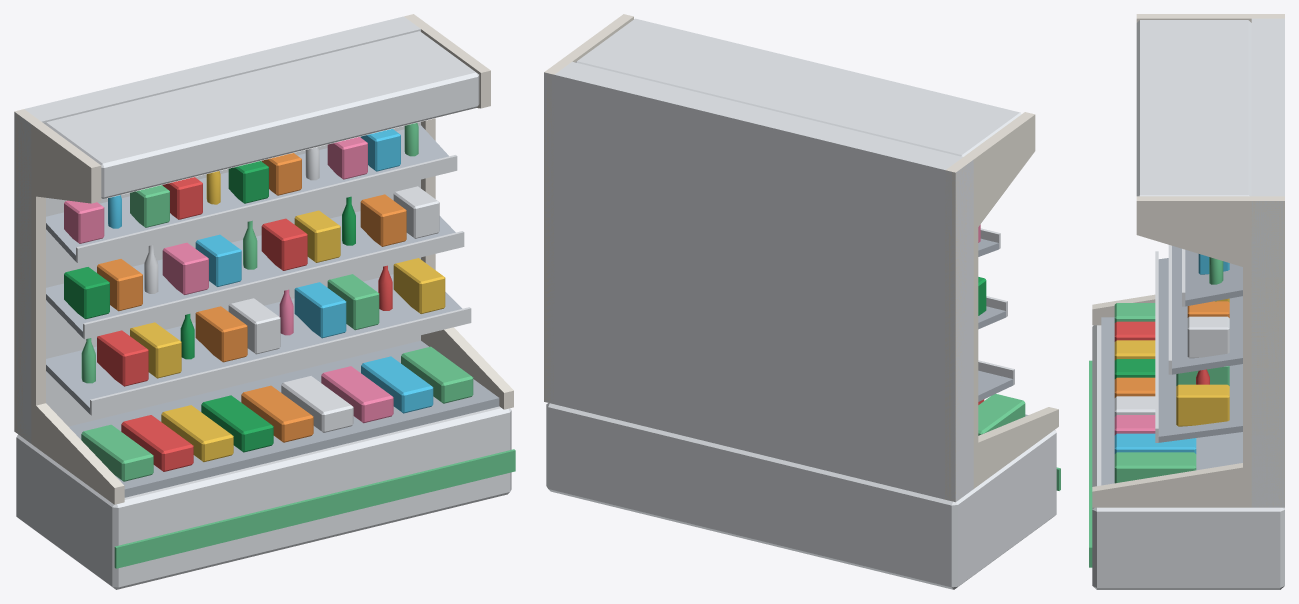
Rendered from fresh_fridge.glb.
The picture shows the model from 3 angles, left to right: view 1: azimuth 30°, elevation 25°; view 2: azimuth 150°, elevation 25°; view 3: azimuth 270°, elevation 25°; orthographic projection. The views are drawn at different scales.
Parts seen in each view (by area): view 1: fresh_fridge; view 2: fresh_fridge; view 3: fresh_fridge.
Part boxes in pixels (x1,y1,x2,y2): fresh_fridge: (14,14,515,589); fresh_fridge: (544,14,1060,589); fresh_fridge: (1089,14,1284,589).
Bounding box in the file's own units: 2 × 1.95 × 0.885.
